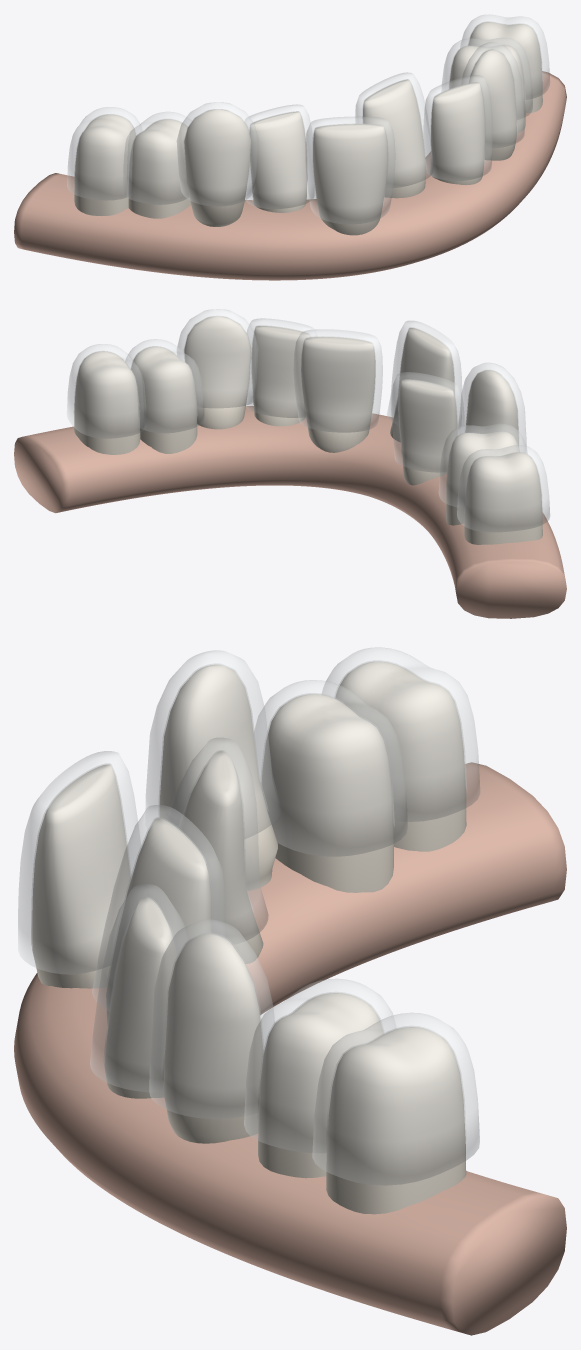
The model's file is aligner.glb.
3 renders of one model, top to bottom at view 1: azimuth 30°, elevation 25°; view 2: azimuth 150°, elevation 25°; view 3: azimuth 270°, elevation 25°, orthographic. The views are drawn at different scales.
Parts seen in each view (by area): view 1: arch, tray; view 2: arch, tray; view 3: arch, tray.
Part boxes in pixels (x1=…): arch: x1=14, y1=22, x2=566, y2=280; tray: x1=67, y1=14, x2=549, y2=224; arch: x1=14, y1=316, x2=566, y2=618; tray: x1=67, y1=309, x2=549, y2=531; arch: x1=14, y1=661, x2=566, y2=1335; tray: x1=18, y1=647, x2=479, y2=1185.
Size of the model in its own units: 2.75 by 0.8153 by 1.27.
